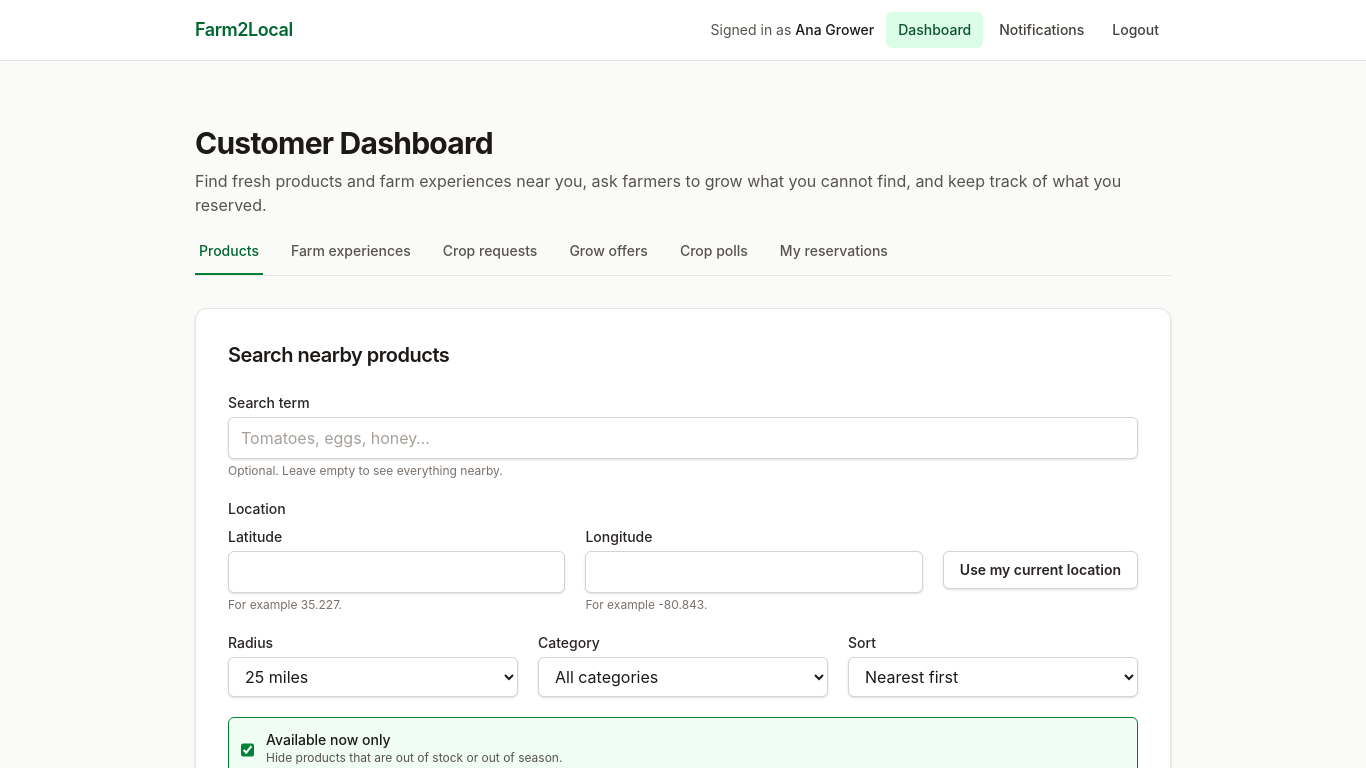
Test case: search form › rejects Latitude "95" without searching
Type "35.2271" into the field labelled "Latitude" at (397, 572), box x1=228 y1=551 x2=565 y2=593
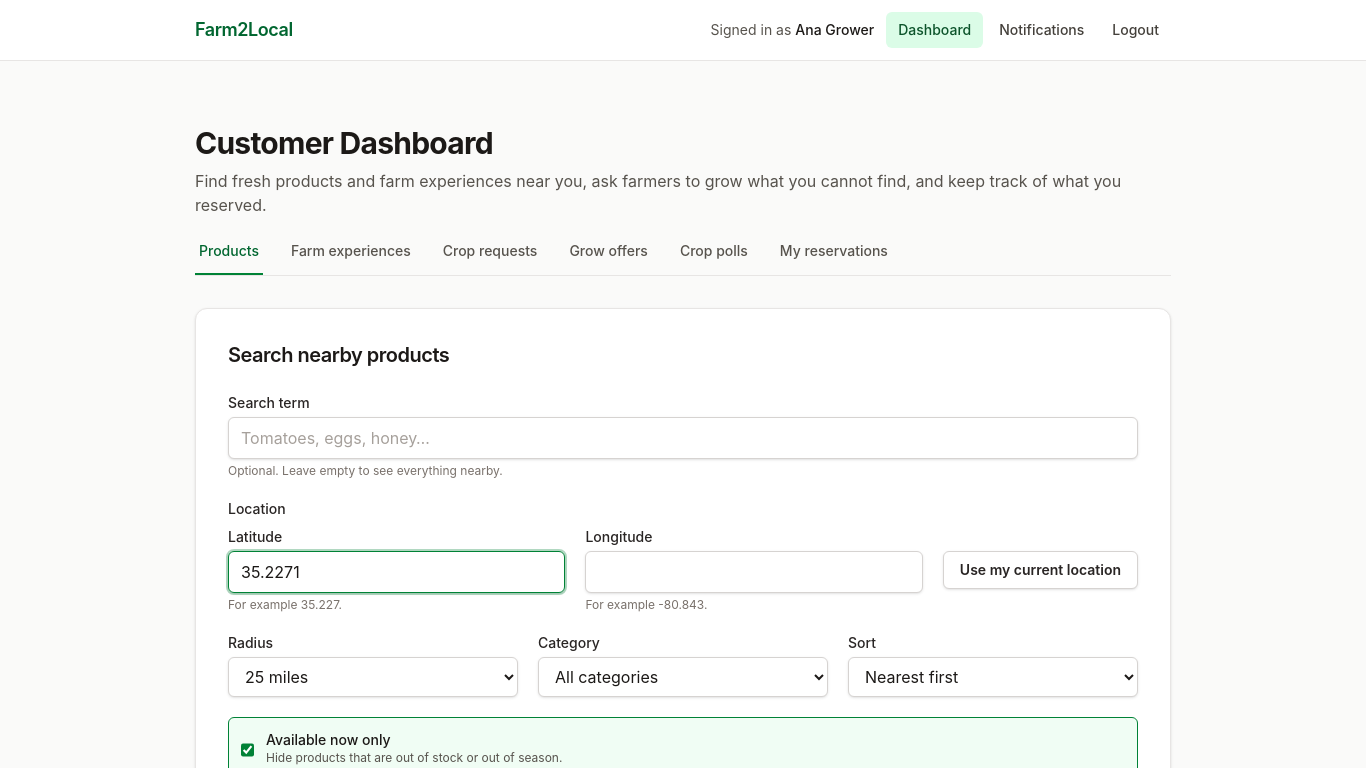
Type "-80.8431" into the field labelled "Longitude" at (754, 572), box x1=585 y1=551 x2=923 y2=593
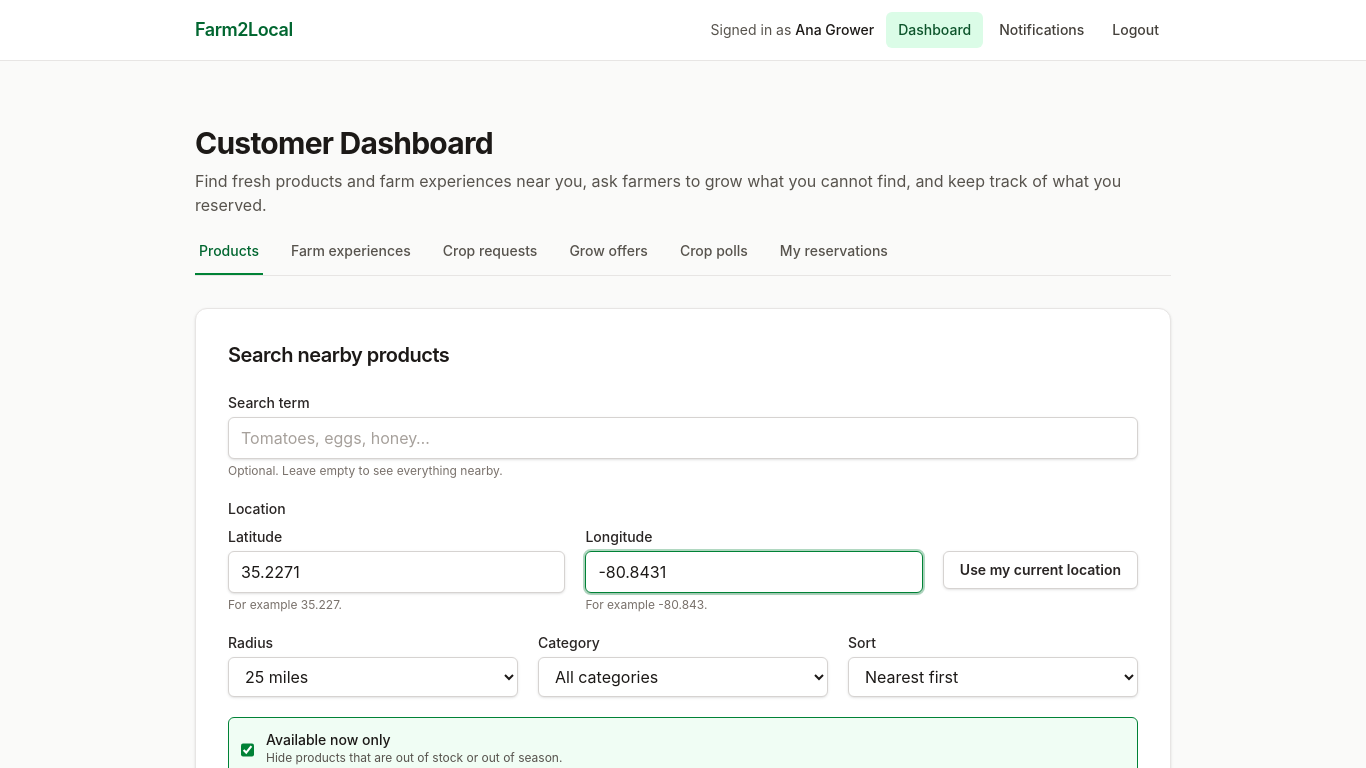
Replace the text in the field labelled "Latitude" with "95" at (397, 572), box x1=228 y1=551 x2=565 y2=593
(page scrolled)
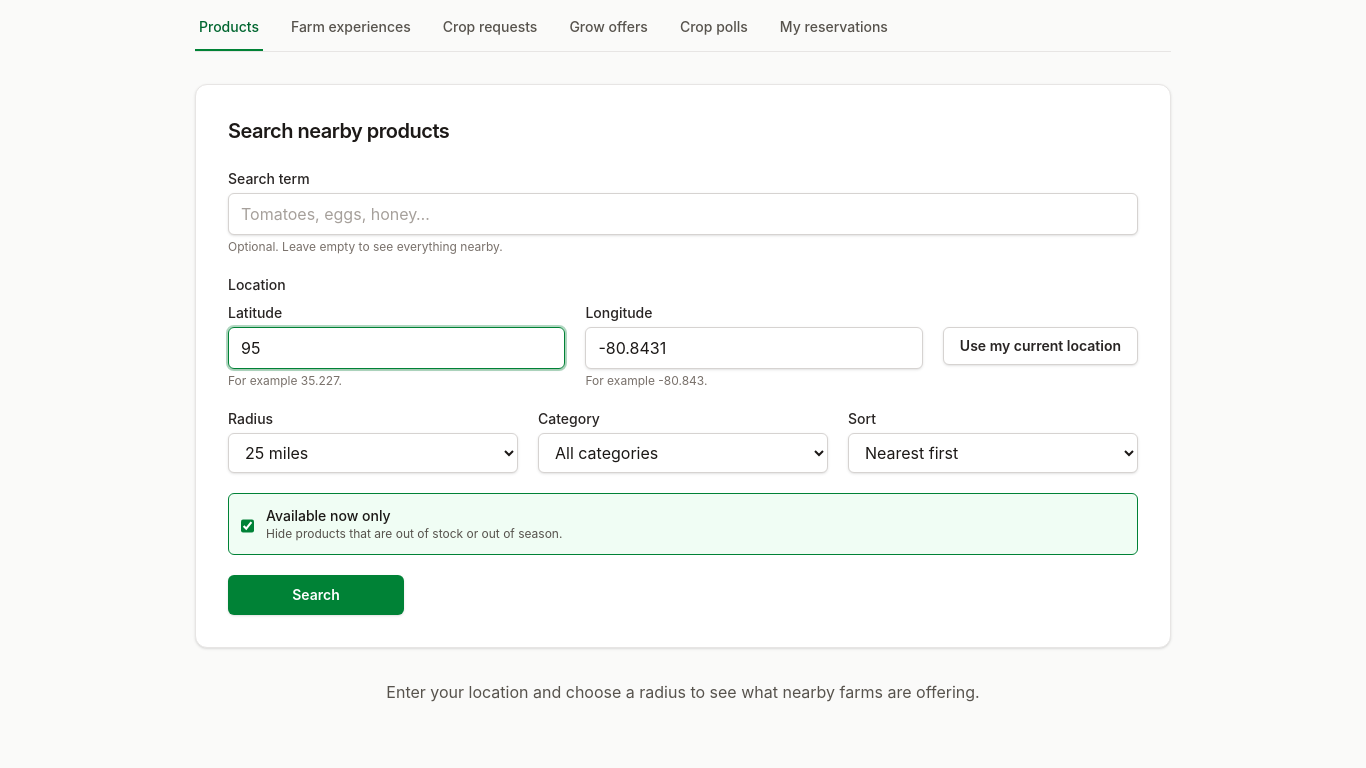
Click the button "Search" at (316, 595), box x1=228 y1=575 x2=404 y2=615
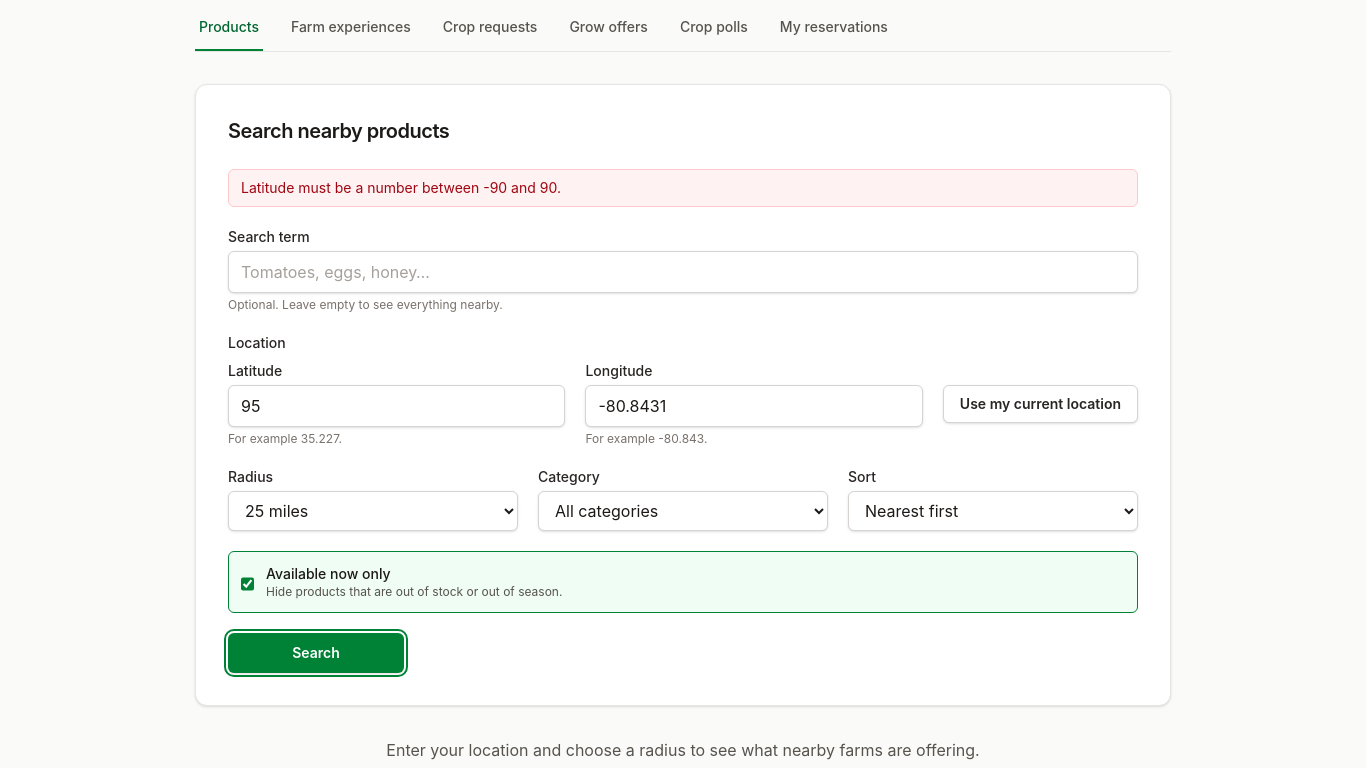
Now the message reads "Latitude must be a number between -90 and 90.", box x1=241 y1=179 x2=561 y2=196
